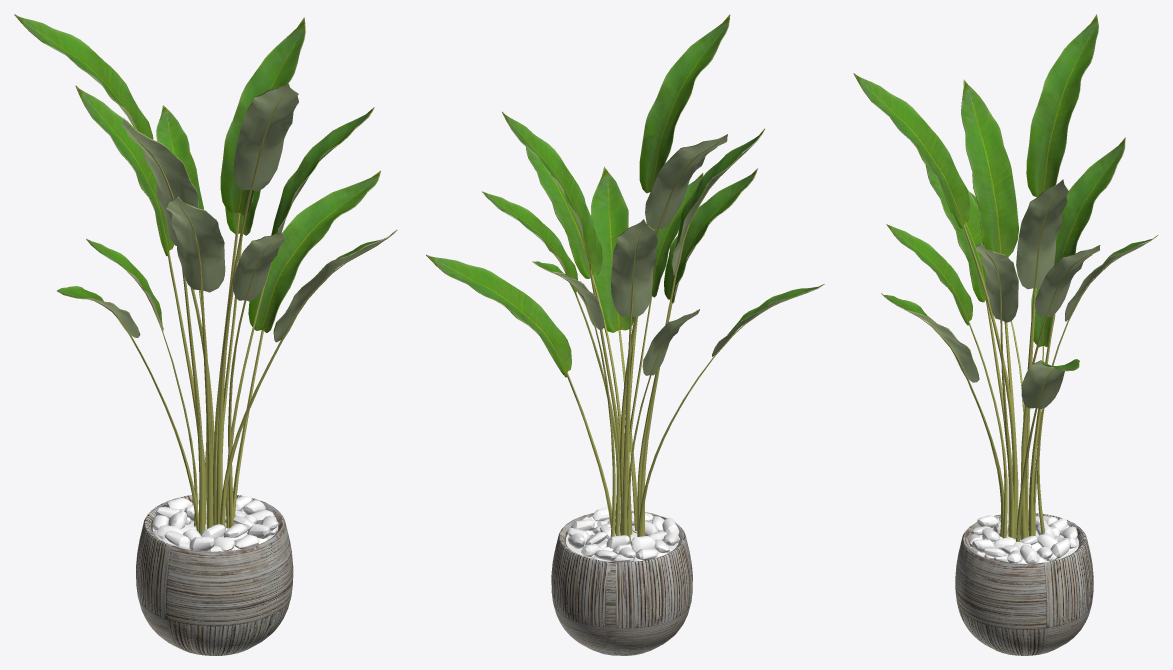
Rendered from Planta1.glb.
3 renders of one model, left to right at view 1: azimuth 30°, elevation 25°; view 2: azimuth 150°, elevation 25°; view 3: azimuth 270°, elevation 25°, orthographic. The views are drawn at different scales.
Parts seen in each view (by area): view 1: Planta1; view 2: Planta1; view 3: Planta1.
Boxes of the visible parts, x1,y1,x2,y2 form: Planta1: [14, 14, 397, 655]; Planta1: [426, 14, 824, 655]; Planta1: [853, 14, 1157, 655].
Bounding box in the file's own units: 1.53 × 2.4 × 1.19.
Materials: 5 (3 with a texture image).
